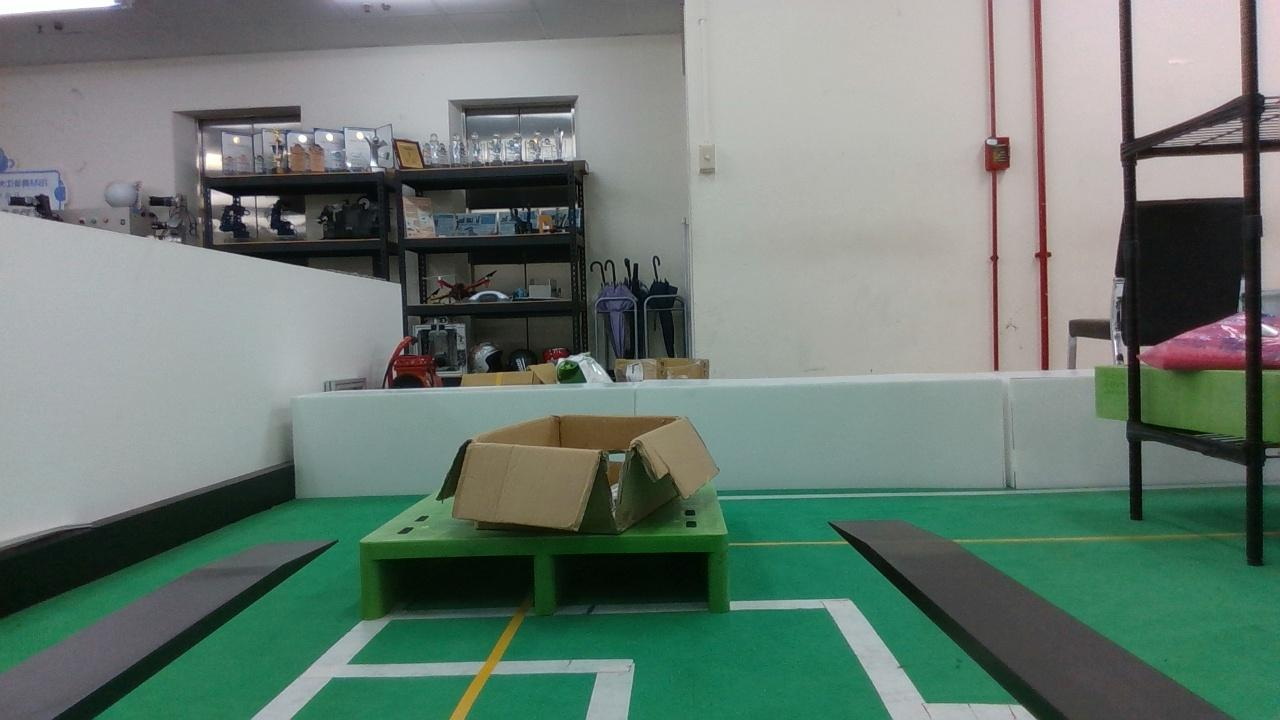Pallet: (350, 531, 728, 621)
